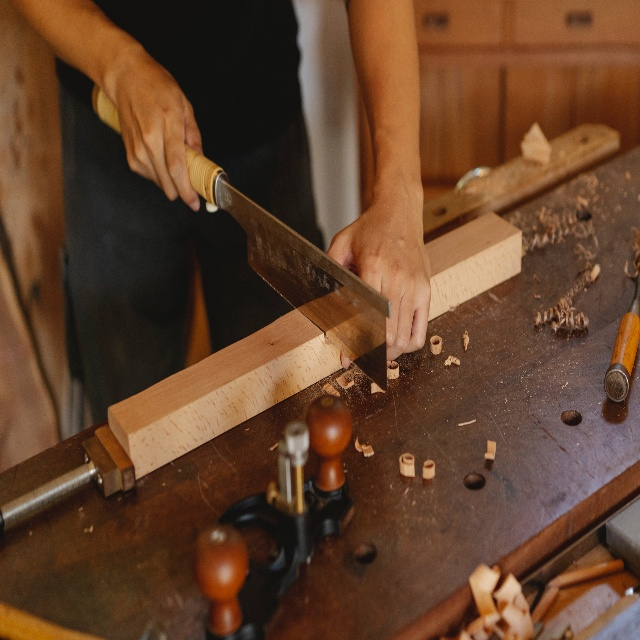Sin_guantes: (327, 180, 433, 361), (114, 42, 205, 212)
